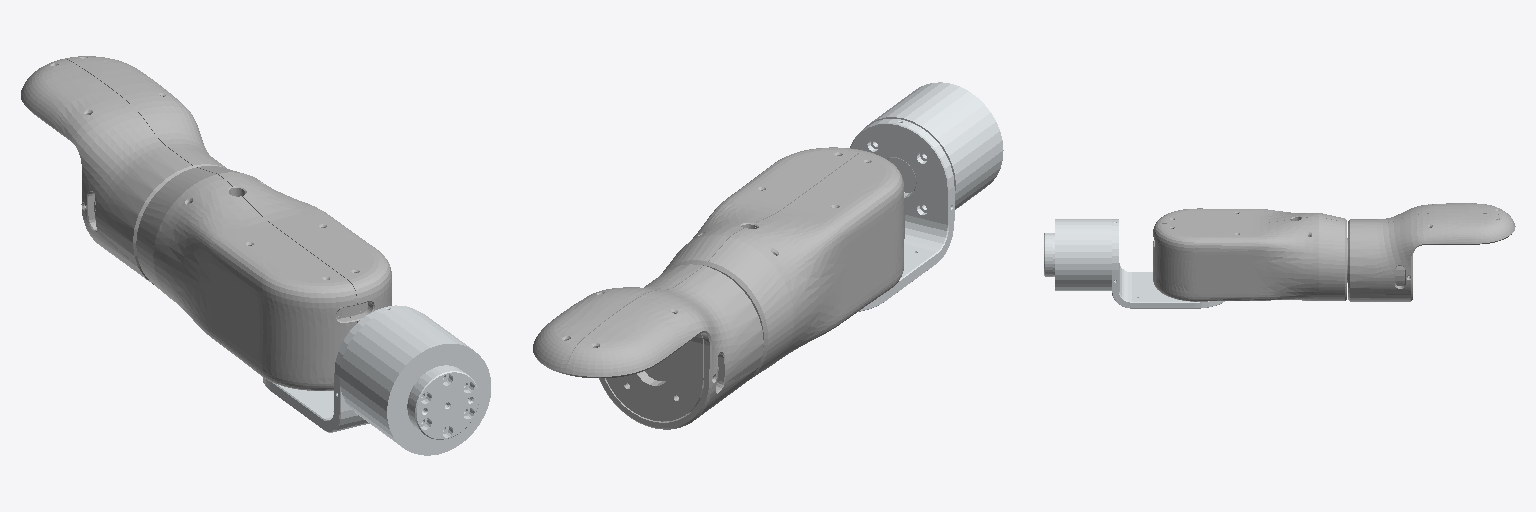
The robot description file, URDF, robot "x1_r_urdf":
<?xml version="1.0" encoding="utf-8"?>
<!-- This URDF was automatically created by SolidWorks to URDF Exporter! Originally created by Stephen Brawner (brawner@gmail.com) 
     Commit Version: 1.6.0-4-g7f85cfe  Build Version: 1.6.7995.38578
     For more information, please see http://wiki.ros.org/sw_urdf_exporter -->
<robot
  name="x1_r_urdf">
  <mujoco>
    <compiler meshdir="../../meshes/v3.2/" balanceinertia="true" discardvisual="false" />
  </mujoco>

  <!-- 虚拟根link (KDL兼容性) -->
  <link name="world"/>

  <link
    name="base_link-r">
    <inertial>
      <origin
        xyz="-0.000159939440783534 6.206054578036E-07 0.0304553601487251"
        rpy="0 0 0" />
      <mass
        value="0.472235089227618" />
      <inertia
        ixx="0.000272166948191988"
        ixy="-4.20107334976928E-08"
        ixz="2.63102389038787E-06"
        iyy="0.000257572811142295"
        iyz="-2.99310496957662E-07"
        izz="0.000367714560089023" />
    </inertial>
    <visual>
      <origin
        xyz="0 0 0"
        rpy="0 0 0" />
      <geometry>
        <mesh
          filename="package://woan_description/meshes/v3.2/base_link-r.STL" />
      </geometry>
      <material
        name="">
        <color
          rgba="0.752941176470588 0.752941176470588 0.752941176470588 1" />
      </material>
    </visual>
    <collision>
      <origin
        xyz="0 0 0"
        rpy="0 0 0" />
      <geometry>
        <mesh
          filename="package://woan_description/meshes/v3.2/base_link-r.STL" />
      </geometry>
    </collision>
  </link>
  <link
    name="Link1-r">
    <inertial>
      <origin
        xyz="-0.0088527831800637 -0.000280590533933029 0.0670633885129721"
        rpy="0 0 0" />
      <mass
        value="0.397204280773654" />
      <inertia
        ixx="0.000370077014250136"
        ixy="-1.06759281281507E-06"
        ixz="4.91266149924594E-05"
        iyy="0.000386592571276313"
        iyz="2.22029621130241E-09"
        izz="0.000177520078038886" />
    </inertial>
    <visual>
      <origin
        xyz="0 0 0"
        rpy="0 0 0" />
      <geometry>
        <mesh
          filename="package://woan_description/meshes/v3.2/Link1-r.STL" />
      </geometry>
      <material
        name="">
        <color
          rgba="0.752941176470588 0.752941176470588 0.752941176470588 1" />
      </material>
    </visual>
    <collision>
      <origin
        xyz="0 0 0"
        rpy="0 0 0" />
      <geometry>
        <mesh
          filename="package://woan_description/meshes/v3.2/Link1-r.STL" />
      </geometry>
    </collision>
  </link>

  <!-- 虚拟根关节 -->
  <joint name="world_to_base" type="fixed">
    <parent link="world"/>
    <child link="base_link-r"/>
    <origin xyz="0 0 0" rpy="0 0 0"/>
  </joint>

  <joint
    name="joint1-x1_r"
    type="revolute">
    <origin
      xyz="0 0 0.0585"
      rpy="0 0 0" />
    <parent
      link="base_link-r" />
    <child
      link="Link1-r" />
    <axis
      xyz="0 0 1" />
    <limit
      lower="-1.05"
      upper="3.14"
      effort="0"
      velocity="0" />
  </joint>
  <link
    name="Link2-r">
    <inertial>
      <origin
        xyz="-1.86398062358983E-05 -0.0601388137964648 -0.0192816864312245"
        rpy="0 0 0" />
      <mass
        value="0.290860547989759" />
      <inertia
        ixx="0.000239192935471386"
        ixy="-3.0315113111775E-07"
        ixz="-2.51820051647428E-07"
        iyy="0.000147541815496128"
        iyz="-5.20878529456565E-05"
        izz="0.000208737092360015" />
    </inertial>
    <visual>
      <origin
        xyz="0 0 0"
        rpy="0 0 0" />
      <geometry>
        <mesh
          filename="package://woan_description/meshes/v3.2/Link2-r.STL" />
      </geometry>
      <material
        name="">
        <color
          rgba="0.752941176470588 0.752941176470588 0.752941176470588 1" />
      </material>
    </visual>
    <collision>
      <origin
        xyz="0 0 0"
        rpy="0 0 0" />
      <geometry>
        <mesh
          filename="package://woan_description/meshes/v3.2/Link2-r.STL" />
      </geometry>
    </collision>
  </link>
  <joint
    name="joint2-x1_r"
    type="revolute">
    <origin
      xyz="0.0279999999999086 0 0.0994500000000517"
      rpy="0 1.5707963267949 0" />
    <parent
      link="Link1-r" />
    <child
      link="Link2-r" />
    <axis
      xyz="0 0 1" />
    <limit
      lower="-3.58"
      upper="0.44"
      effort="0"
      velocity="0" />
  </joint>
  <link
    name="Link3-r">
    <inertial>
      <origin
        xyz="0.00859970560879295 -1.61505788075018E-05 0.0847583674838119"
        rpy="0 0 0" />
      <mass
        value="0.396418729186951" />
      <inertia
        ixx="0.000578190709796485"
        ixy="4.4403810123705E-07"
        ixz="-8.65425690503796E-05"
        iyy="0.000614875814456899"
        iyz="6.08344471706121E-07"
        izz="0.000190763872781322" />
    </inertial>
    <visual>
      <origin
        xyz="0 0 0"
        rpy="0 0 0" />
      <geometry>
        <mesh
          filename="package://woan_description/meshes/v3.2/Link3-r.STL" />
      </geometry>
      <material
        name="">
        <color
          rgba="0.752941176470588 0.752941176470588 0.752941176470588 1" />
      </material>
    </visual>
    <collision>
      <origin
        xyz="0 0 0"
        rpy="0 0 0" />
      <geometry>
        <mesh
          filename="package://woan_description/meshes/v3.2/Link3-r.STL" />
      </geometry>
    </collision>
  </link>
  <joint
    name="joint3-x1_r"
    type="revolute">
    <origin
      xyz="0 -0.111249999999909 -0.0280000000000575"
      rpy="1.57079632679488 0 0" />
    <parent
      link="Link2-r" />
    <child
      link="Link3-r" />
    <axis
      xyz="0 0 1" />
    <limit
      lower="-2.76"
      upper="2.76"
      effort="0"
      velocity="0" />
  </joint>
  <link
    name="Link4-r">
    <inertial>
      <origin
        xyz="0.00013991024764728 0.0548754537034366 0.0183647611649191"
        rpy="0 0 0" />
      <mass
        value="0.256791984454027" />
      <inertia
        ixx="0.000214505454988874"
        ixy="2.90804638431012E-07"
        ixz="2.46776176047111E-07"
        iyy="0.000132821556487019"
        iyz="-4.85495668159922E-05"
        izz="0.000186826848369455" />
    </inertial>
    <visual>
      <origin
        xyz="0 0 0"
        rpy="0 0 0" />
      <geometry>
        <mesh
          filename="package://woan_description/meshes/v3.2/Link4-r.STL" />
      </geometry>
      <material
        name="">
        <color
          rgba="0.752941176470588 0.752941176470588 0.752941176470588 1" />
      </material>
    </visual>
    <collision>
      <origin
        xyz="0 0 0"
        rpy="0 0 0" />
      <geometry>
        <mesh
          filename="package://woan_description/meshes/v3.2/Link4-r.STL" />
      </geometry>
    </collision>
  </link>
  <joint
    name="joint4-x1_r"
    type="revolute">
    <origin
      xyz="-0.0279000000000598 0 0.12224999999998"
      rpy="1.57079632679438 0 1.57079632679462" />
    <parent
      link="Link3-r" />
    <child
      link="Link4-r" />
    <axis
      xyz="0 0 1" />
    <limit
      lower="-1.95"
      upper="1.95"
      effort="0"
      velocity="0" />
  </joint>
  <link
    name="Link5-r">
    <inertial>
      <origin
        xyz="-0.00013550372562364 0.00742806454320111 0.0799053478107766"
        rpy="0 0 0" />
      <mass
        value="0.354214169608369" />
      <inertia
        ixx="0.000548269379618049"
        ixy="-4.34820630076247E-07"
        ixz="-6.7356764964039E-07"
        iyy="0.000531094255273315"
        iyz="-6.2998213731013E-05"
        izz="0.000156454806559342" />
    </inertial>
    <visual>
      <origin
        xyz="0 0 0"
        rpy="0 0 0" />
      <geometry>
        <mesh
          filename="package://woan_description/meshes/v3.2/Link5-r.STL" />
      </geometry>
      <material
        name="">
        <color
          rgba="0.752941176470588 0.752941176470588 0.752941176470588 1" />
      </material>
    </visual>
    <collision>
      <origin
        xyz="0 0 0"
        rpy="0 0 0" />
      <geometry>
        <mesh
          filename="package://woan_description/meshes/v3.2/Link5-r.STL" />
      </geometry>
    </collision>
  </link>
  <joint
    name="joint5-x1_r"
    type="revolute">
    <origin
      xyz="0.00016162 0.101 0.028241"
      rpy="-1.5708 0 0" />
    <parent
      link="Link4-r" />
    <child
      link="Link5-r" />
    <axis
      xyz="0 0 1" />
    <limit
      lower="-2.33"
      upper="2.33"
      effort="0"
      velocity="0" />
  </joint>
  <link
    name="Link6-r">
    <inertial>
      <origin
        xyz="2.06529937557526E-09 0.0632193133721505 -0.018155313744666"
        rpy="0 0 0" />
      <mass
        value="0.222923872256415" />
      <inertia
        ixx="0.000157517631713574"
        ixy="-8.53142536998435E-12"
        ixz="-5.64529270846301E-12"
        iyy="0.000104164623956272"
        iyz="2.98156650200481E-05"
        izz="0.000156074327313403" />
    </inertial>
    <visual>
      <origin
        xyz="0 0 0"
        rpy="0 0 0" />
      <geometry>
        <mesh
          filename="package://woan_description/meshes/v3.2/Link6-r.STL" />
      </geometry>
      <material
        name="">
        <color
          rgba="0.898039215686275 0.917647058823529 0.929411764705882 1" />
      </material>
    </visual>
    <collision>
      <origin
        xyz="0 0 0"
        rpy="0 0 0" />
      <geometry>
        <mesh
          filename="package://woan_description/meshes/v3.2/Link6-r.STL" />
      </geometry>
    </collision>
  </link>
  <joint
    name="joint6-x1_r"
    type="revolute">
    <origin
      xyz="-0.00016162 -0.023409 0.12"
      rpy="1.5708 0 0" />
    <parent
      link="Link5-r" />
    <child
      link="Link6-r" />
    <axis
      xyz="0 0 -1" />
    <limit
      lower="-1.74"
      upper="1.74"
      effort="0"
      velocity="0" />
  </joint>
  <link
    name="Link7-r">
    <inertial>
      <origin
        xyz="1.51621996664228E-16 -9.71445146547012E-16 0.0033644780157378"
        rpy="0 0 0" />
      <mass
        value="0.0156367952000345" />
      <inertia
        ixx="1.24351573484494E-06"
        ixy="-5.74656107919406E-21"
        ixz="1.80733274553271E-19"
        iyy="1.2135847017907E-06"
        iyz="2.25866344323913E-21"
        izz="2.32930826541179E-06" />
    </inertial>
    <visual>
      <origin
        xyz="0 0 0"
        rpy="0 0 0" />
      <geometry>
        <mesh
          filename="package://woan_description/meshes/v3.2/Link7-r.STL" />
      </geometry>
      <material
        name="">
        <color
          rgba="0.898039215686275 0.917647058823529 0.929411764705882 1" />
      </material>
    </visual>
    <collision>
      <origin
        xyz="0 0 0"
        rpy="0 0 0" />
      <geometry>
        <mesh
          filename="package://woan_description/meshes/v3.2/Link7-r.STL" />
      </geometry>
    </collision>
  </link>
  <joint
    name="joint7-x1_r"
    type="revolute">
    <origin
      xyz="0 0.112 -0.02825"
      rpy="1.5708 0 -3.1416" />
    <parent
      link="Link6-r" />
    <child
      link="Link7-r" />
    <axis
      xyz="0 0 1" />
    <limit
      lower="-3.14"
      upper="3.14"
      effort="0"
      velocity="0" />
  </joint>
</robot>

--- Render facts (derived) ---
The picture shows the robot from 3 angles, left to right: view 1: azimuth 30°, elevation 25°; view 2: azimuth 150°, elevation 25°; view 3: azimuth 270°, elevation 25°; orthographic projection.
Model x1_r_urdf with 9 links and 8 joints (7 revolute, 1 fixed), rooted at world, posed all joints at 0.
Links seen in each view (by area): view 1: Link5-r, Link4-r, Link6-r, Link7-r; view 2: Link5-r, Link4-r, Link6-r; view 3: Link5-r, Link4-r, Link6-r.
Link boxes in pixels (box(x1,y1,x2,y2)): Link5-r: box(136, 166, 391, 390); Link4-r: box(21, 56, 225, 284); Link6-r: box(263, 305, 490, 455); Link7-r: box(408, 366, 478, 439); Link5-r: box(661, 147, 904, 380); Link4-r: box(533, 264, 763, 429); Link6-r: box(850, 82, 1003, 311); Link5-r: box(1153, 208, 1346, 301); Link4-r: box(1347, 203, 1515, 301); Link6-r: box(1053, 219, 1224, 308).
Bounding box of the posed robot: 0.0701 × 0.3722 × 0.0741 m (x, y, z).
Meshes: 8 distinct files referenced, 4 mesh visuals loaded (4 binary STL); not drawn: 4 (reference not matched to a file when rendering).
